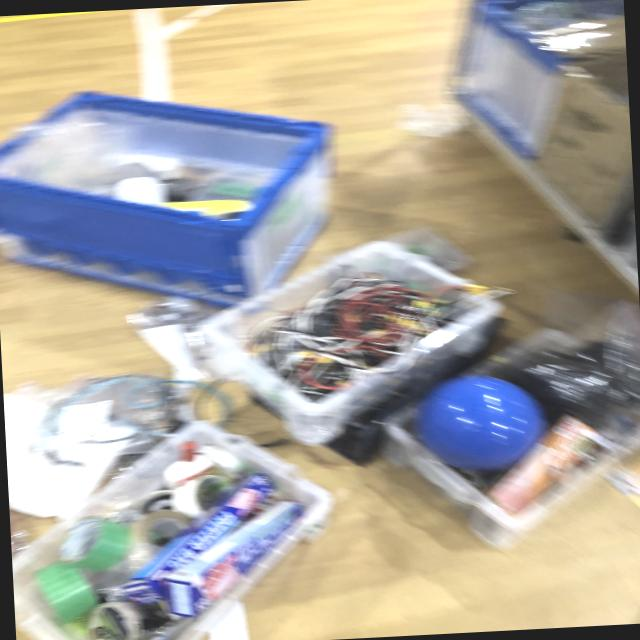blue_ball: (418, 373, 540, 466)
